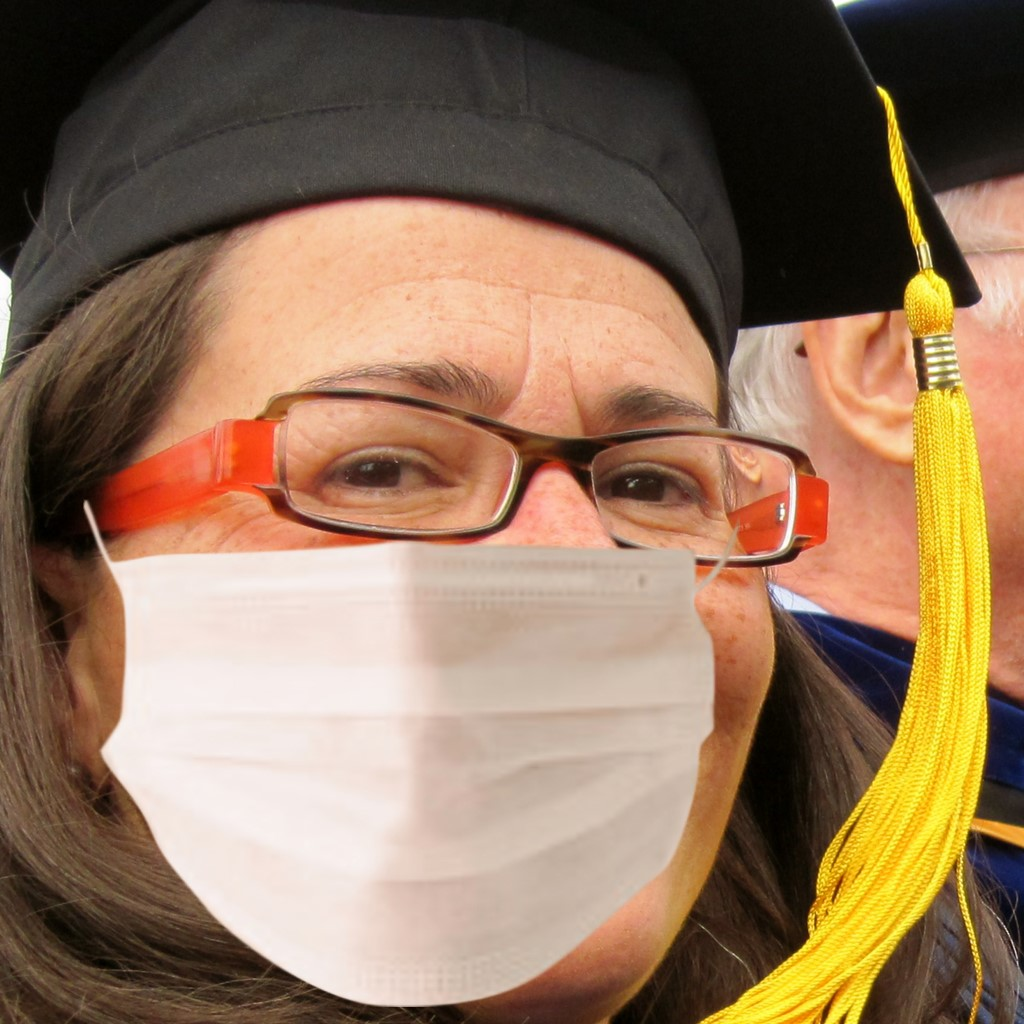con_mascara: (103, 150, 781, 1013)
